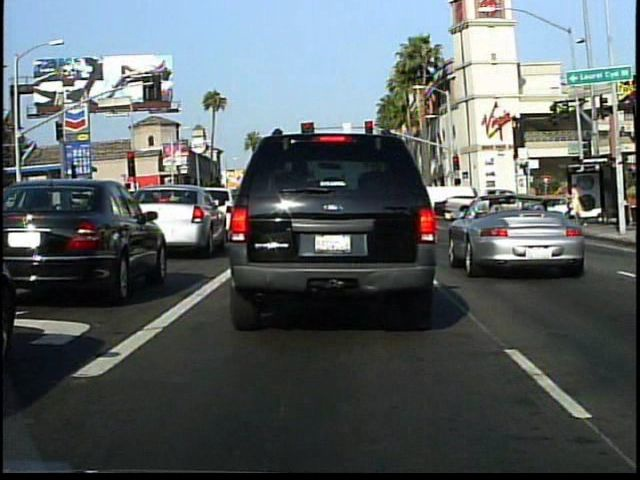person: (565, 179, 587, 225)
